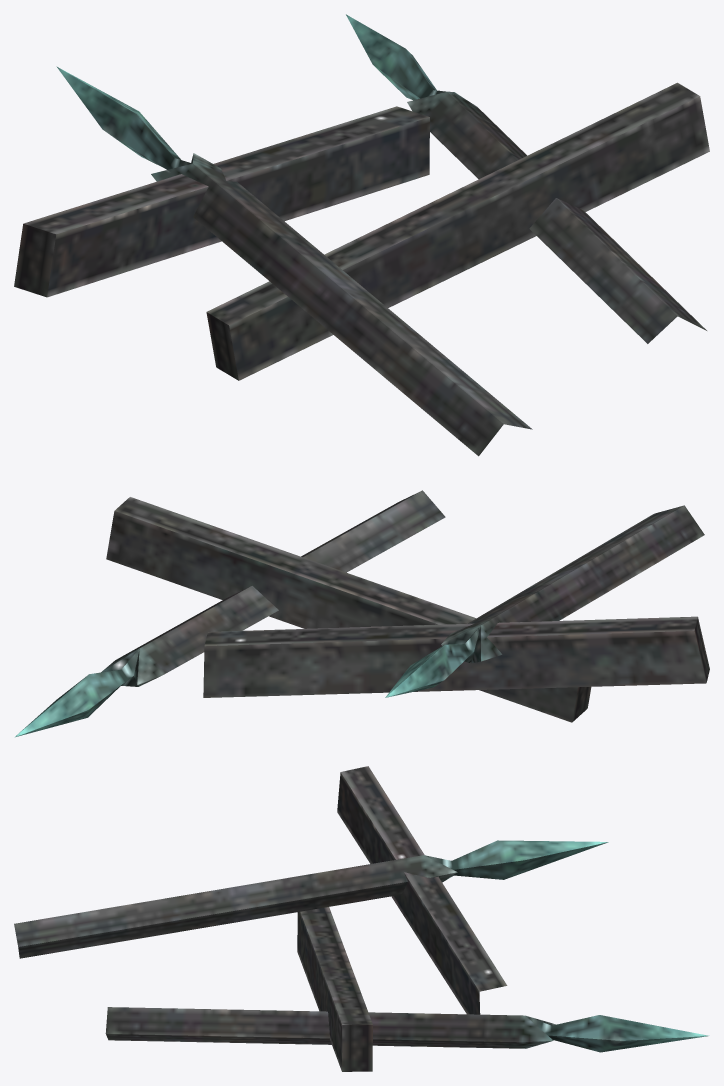
The model's file is 5st_fence_002.glb.
3 renders of one model, top to bottom at view 1: azimuth 30°, elevation 25°; view 2: azimuth 150°, elevation 25°; view 3: azimuth 270°, elevation 25°, orthographic. The views are drawn at different scales.
Visible parts, largest first — view 1: 5st_fence_002; view 2: 5st_fence_002; view 3: 5st_fence_002.
Part boxes in pixels (bbox=[...]): 5st_fence_002: bbox=[14, 14, 709, 456]; 5st_fence_002: bbox=[14, 490, 709, 737]; 5st_fence_002: bbox=[14, 766, 709, 1071].
Size of the model in its own units: 3.99 by 0.9217 by 4.67.
1 material, 1 textured.
